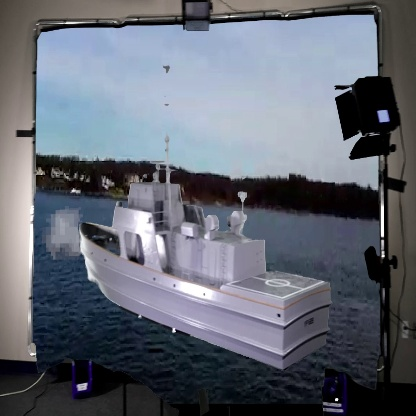YP689: (79, 45, 334, 370)
